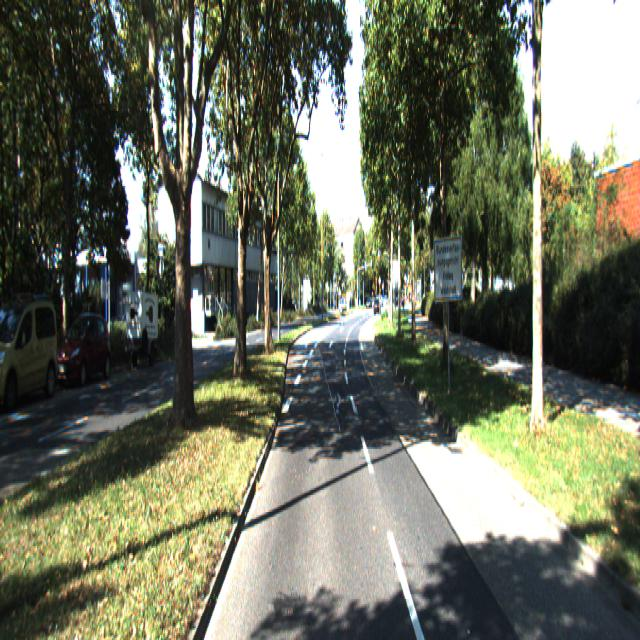Car: (0, 293, 63, 412), (57, 312, 112, 388), (127, 285, 161, 367)
